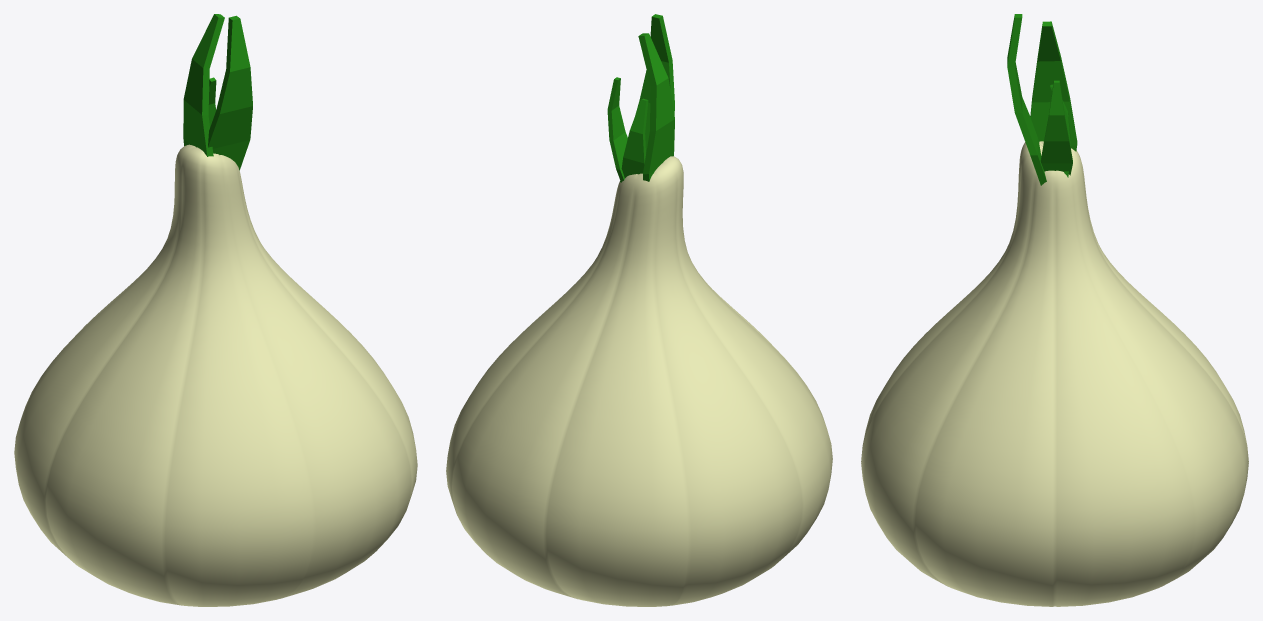
File: Onion.glb
3 views of the same model, side by side, from view 1: azimuth 30°, elevation 25°; view 2: azimuth 150°, elevation 25°; view 3: azimuth 270°, elevation 25° (orthographic). The views are drawn at different scales.
Visible parts, largest first — view 1: Cube.005, Plane, Plane.003; view 2: Cube.005, Plane.003, Plane, Plane.002, Plane.001; view 3: Cube.005, Plane.003, Plane.001, Plane.
Part boxes in pixels (<box>): Cube.005: <box>14,144,417,606</box>; Plane: <box>208,15,252,170</box>; Plane.003: <box>183,14,224,156</box>; Cube.005: <box>446,156,832,606</box>; Plane.003: <box>638,33,674,181</box>; Plane: <box>635,14,674,153</box>; Plane.002: <box>620,98,648,182</box>; Plane.001: <box>607,77,627,182</box>; Cube.005: <box>861,141,1248,606</box>; Plane.003: <box>1030,21,1077,151</box>; Plane.001: <box>1040,80,1072,175</box>; Plane: <box>1007,14,1046,185</box>.
Size of the model in its own units: 2.81 by 4.49 by 2.81.
